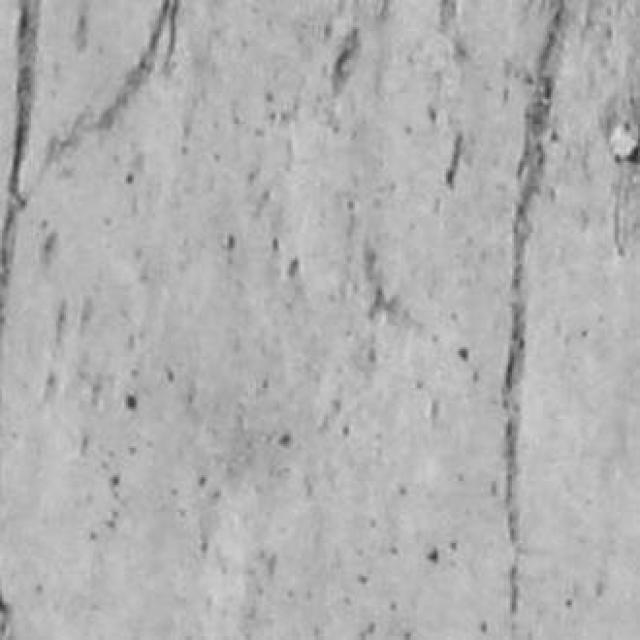crack: (503, 0, 566, 638), (41, 0, 180, 176), (0, 0, 40, 343), (94, 0, 178, 129), (332, 28, 360, 95), (445, 132, 463, 190), (0, 594, 13, 639), (441, 0, 457, 31)
